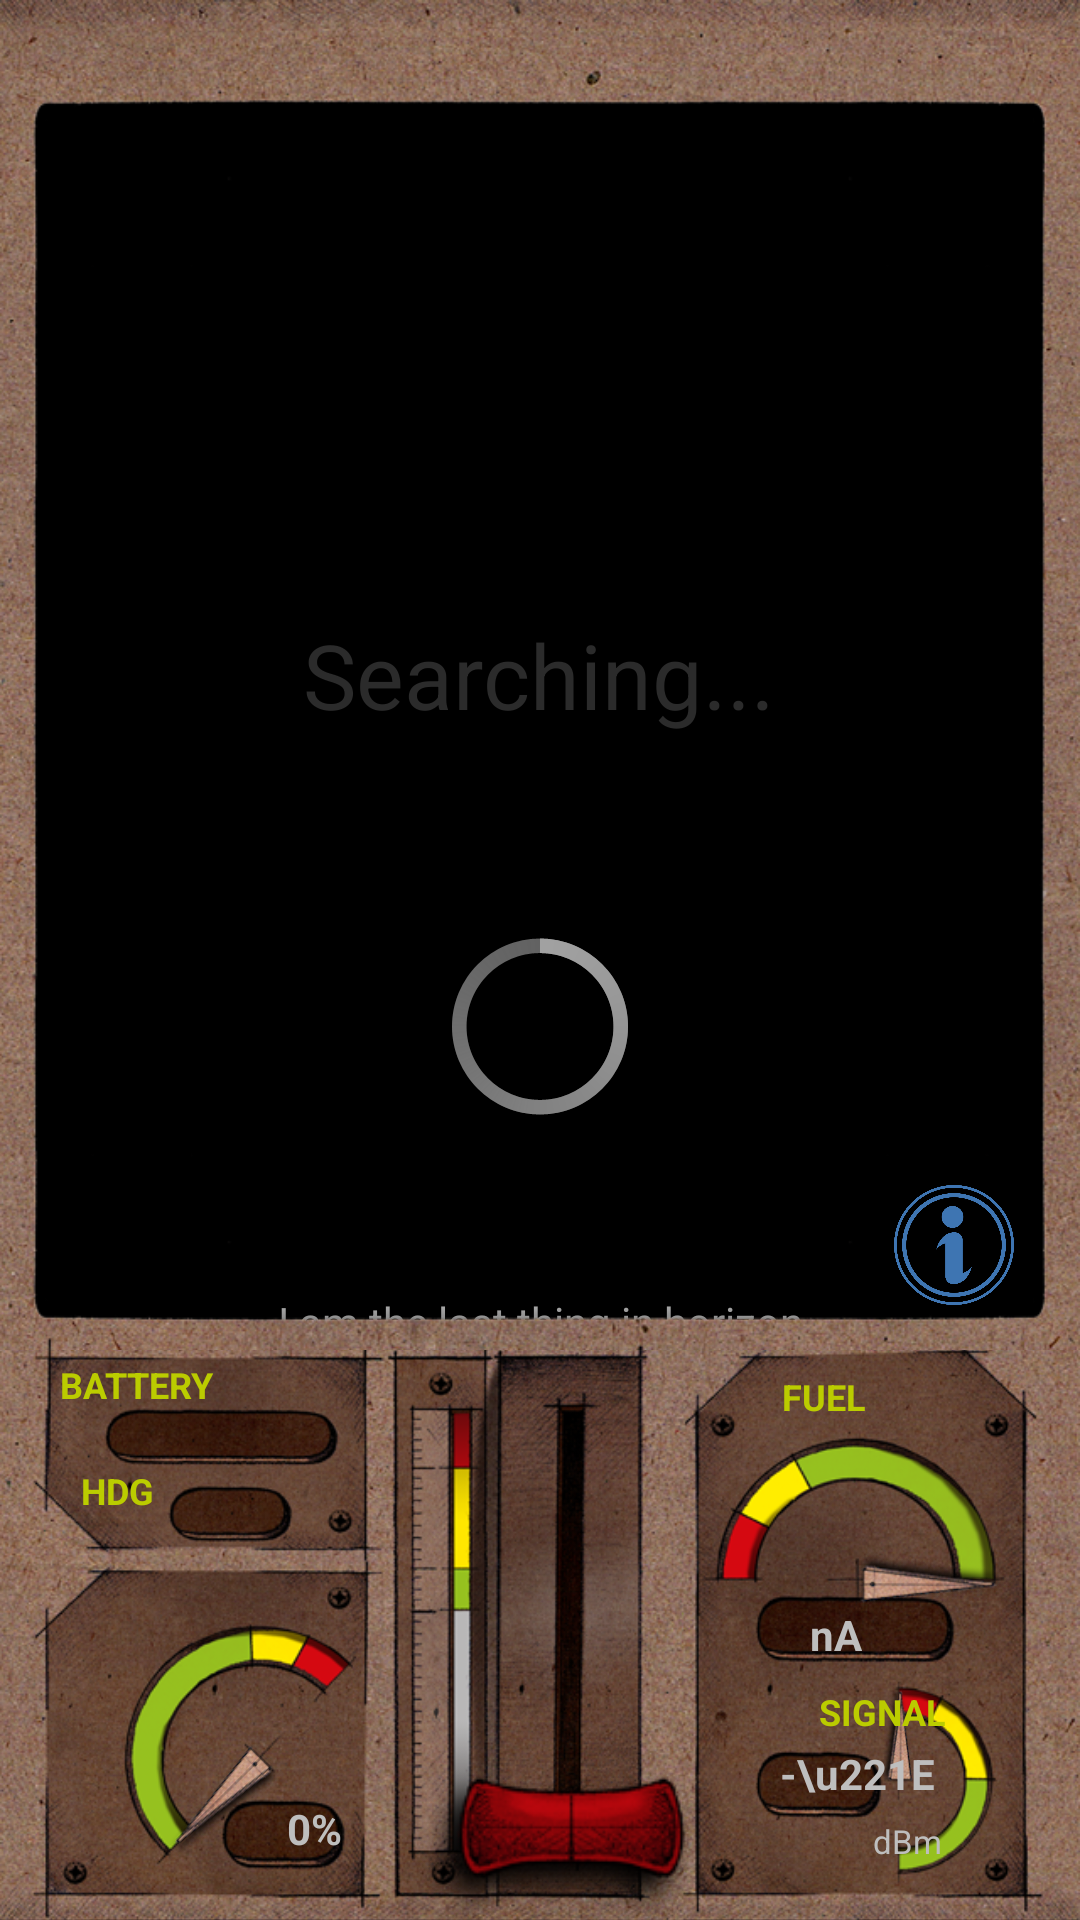

Named icons in this screenshot (1080px×1920px) and their centers, point (x, y):
information: point (954, 1245)
